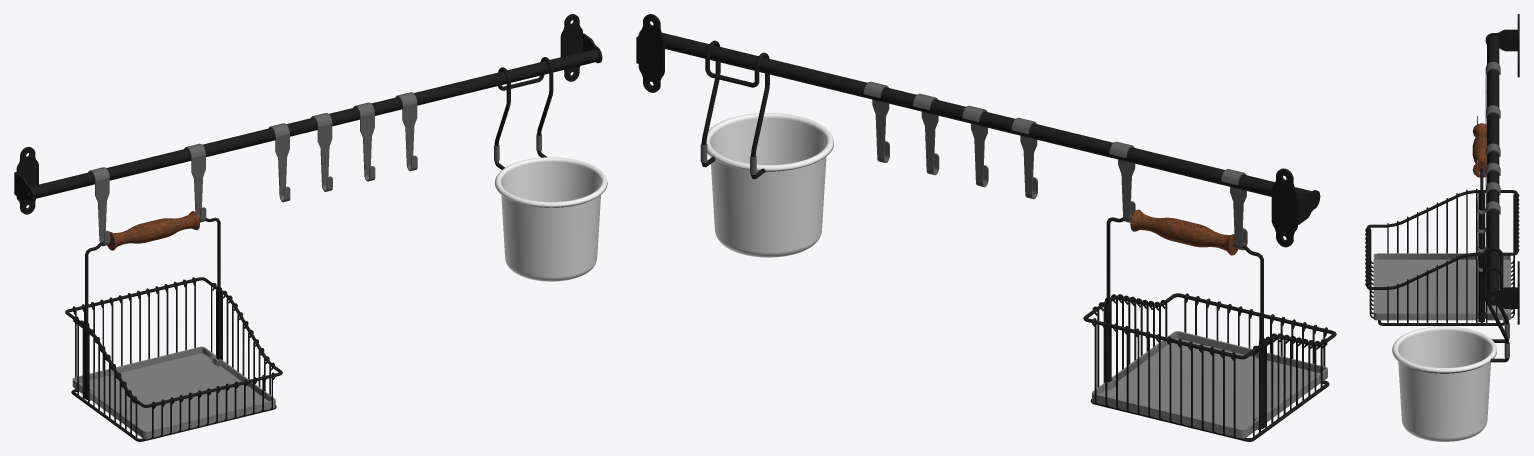
The model's file is 098 - stand divari jadid meshki goldan sefid.glb.
3 renders of one model, left to right at view 1: azimuth 30°, elevation 25°; view 2: azimuth 150°, elevation 25°; view 3: azimuth 270°, elevation 25°, orthographic. The views are drawn at different scales.
Parts seen in each view (by area): view 1: Group#30 [93912], Group#10 [93087], Group#7 [93899], Group#1 [120932] (×4), Group#16 [120939] (×2), Group#13 [93088], Group#88 [93085], [78153], [21089], [66536], Group#15 [93086], Group#19 [93083]; view 2: Group#30 [93912], Group#10 [93087], Group#7 [93899], Group#1 [120932] (×4), Group#88 [93085], Group#16 [120939] (×2), Group#13 [93088], [78153], [21089], [66536], Group#15 [93086], Group#19 [93083]; view 3: Group#30 [93912], Group#10 [93087], Group#7 [93899], Group#13 [93088], Group#159 [21625] (×2), [78153], Group#1 [120932] (×4), Group#88 [93085], Group#16 [120939] (×2), Group#19 [93083], Group#11 [93084], Group#15 [93086] (+3 smaller).
Part boxes in pixels (x1=…): Group#30 [93912]: x1=494, y1=157, x2=607, y2=281; Group#10 [93087]: x1=72, y1=346, x2=275, y2=438; Group#7 [93899]: x1=31, y1=49, x2=599, y2=198; Group#1 [120932] (×4): x1=268, y1=92, x2=417, y2=202; Group#16 [120939] (×2): x1=88, y1=143, x2=206, y2=246; Group#13 [93088]: x1=65, y1=277, x2=282, y2=407; Group#88 [93085]: x1=107, y1=211, x2=199, y2=250; [78153]: x1=494, y1=57, x2=585, y2=207; [21089]: x1=560, y1=14, x2=582, y2=81; [66536]: x1=16, y1=147, x2=38, y2=214; Group#15 [93086]: x1=85, y1=217, x2=220, y2=400; Group#19 [93083]: x1=71, y1=389, x2=276, y2=441; Group#30 [93912]: x1=706, y1=113, x2=833, y2=257; Group#10 [93087]: x1=1092, y1=331, x2=1327, y2=438; Group#7 [93899]: x1=662, y1=32, x2=1311, y2=196; Group#1 [120932] (×4): x1=863, y1=81, x2=1037, y2=199; Group#88 [93085]: x1=1130, y1=209, x2=1238, y2=255; Group#16 [120939] (×2): x1=1109, y1=141, x2=1247, y2=250; Group#13 [93088]: x1=1083, y1=293, x2=1336, y2=359; [78153]: x1=701, y1=40, x2=792, y2=179; [21089]: x1=638, y1=14, x2=664, y2=92; [66536]: x1=1271, y1=168, x2=1297, y2=247; Group#15 [93086]: x1=1106, y1=217, x2=1263, y2=430; Group#19 [93083]: x1=1090, y1=380, x2=1329, y2=441; Group#30 [93912]: x1=1392, y1=326, x2=1496, y2=441; Group#10 [93087]: x1=1373, y1=253, x2=1510, y2=320; Group#7 [93899]: x1=1487, y1=35, x2=1499, y2=299; Group#13 [93088]: x1=1366, y1=190, x2=1517, y2=289; Group#159 [21625] (×2): x1=1485, y1=29, x2=1519, y2=308; [78153]: x1=1409, y1=246, x2=1509, y2=373; Group#1 [120932] (×4): x1=1477, y1=143, x2=1500, y2=271; Group#88 [93085]: x1=1472, y1=123, x2=1486, y2=177; Group#16 [120939] (×2): x1=1477, y1=61, x2=1500, y2=175; Group#19 [93083]: x1=1378, y1=320, x2=1505, y2=325; Group#11 [93084]: x1=1478, y1=252, x2=1484, y2=322; Group#15 [93086]: x1=1480, y1=168, x2=1483, y2=322.
Bounding box in the file's own units: 0.806 × 0.337 × 0.2035.
Materials: 8 (3 with a texture image).
